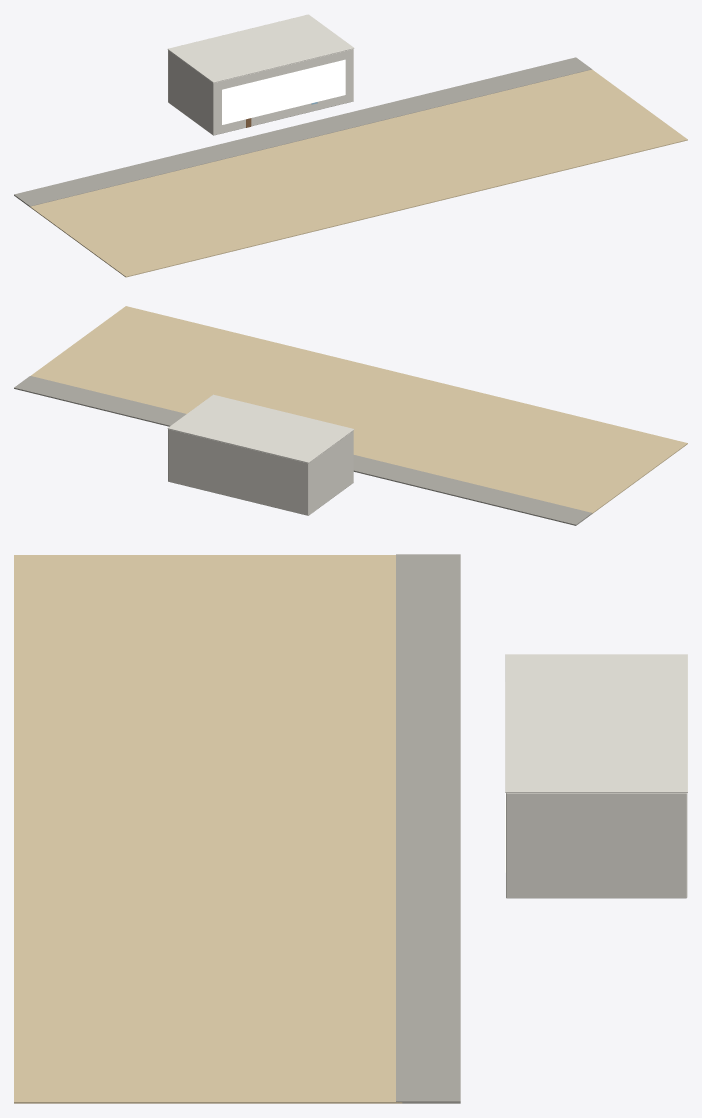
File: GwangalliMillak_blockout.glb
The picture shows the model from 3 angles, top to bottom: view 1: azimuth 30°, elevation 25°; view 2: azimuth 150°, elevation 25°; view 3: azimuth 270°, elevation 25°; orthographic projection. The views are drawn at different scales.
Visible parts, largest first — view 1: ENV18_GwangalliMillak_Beach_L0, ENV18_GwangalliMillak_Promenade_L0, ENV18_GwangalliMillak_FishCenterRoof_L0, ENV18_GwangalliMillak_FishCenterWall_L0, ENV18_GwangalliMillak_LitFacade_L0; view 2: ENV18_GwangalliMillak_Beach_L0, ENV18_GwangalliMillak_FishCenterWall_L0, ENV18_GwangalliMillak_Promenade_L0, ENV18_GwangalliMillak_FishCenterRoof_L0; view 3: ENV18_GwangalliMillak_Beach_L0, ENV18_GwangalliMillak_Promenade_L0, ENV18_GwangalliMillak_FishCenterRoof_L0, ENV18_GwangalliMillak_FishCenterWall_L0.
Part boxes in pixels (x1,y1,x2,y2): ENV18_GwangalliMillak_Beach_L0: [29, 69, 687, 277]; ENV18_GwangalliMillak_Promenade_L0: [14, 57, 592, 206]; ENV18_GwangalliMillak_FishCenterRoof_L0: [167, 14, 354, 82]; ENV18_GwangalliMillak_FishCenterWall_L0: [168, 49, 353, 135]; ENV18_GwangalliMillak_LitFacade_L0: [222, 59, 345, 124]; ENV18_GwangalliMillak_Beach_L0: [31, 306, 687, 514]; ENV18_GwangalliMillak_FishCenterWall_L0: [168, 429, 353, 515]; ENV18_GwangalliMillak_Promenade_L0: [14, 376, 592, 525]; ENV18_GwangalliMillak_FishCenterRoof_L0: [167, 394, 354, 463]; ENV18_GwangalliMillak_Beach_L0: [14, 555, 402, 1103]; ENV18_GwangalliMillak_Promenade_L0: [396, 554, 460, 1103]; ENV18_GwangalliMillak_FishCenterRoof_L0: [505, 654, 687, 792]; ENV18_GwangalliMillak_FishCenterWall_L0: [506, 793, 687, 898].
Size of the model in its own units: 100 by 9.15 by 52.06.
